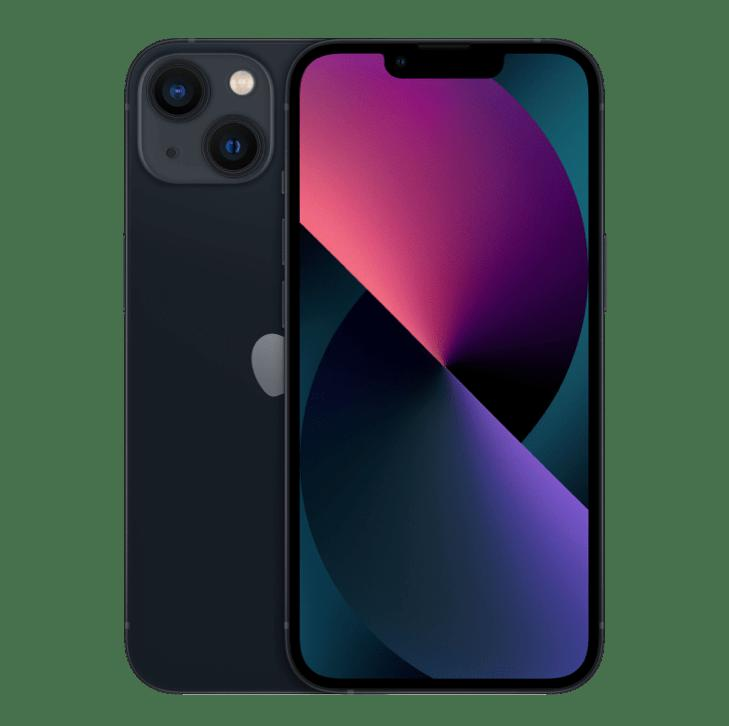Smartphone: (282, 34, 605, 687), (134, 20, 306, 697)
